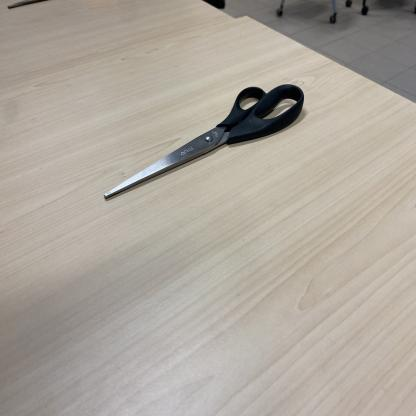scissors: (104, 83, 304, 201)
